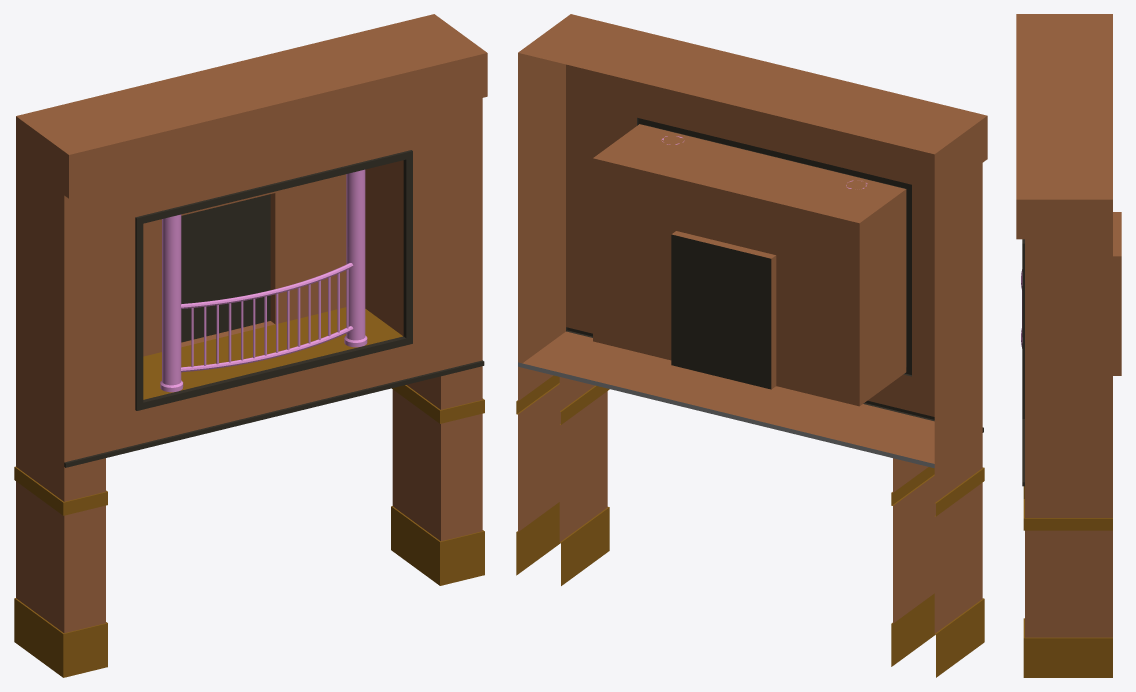
The model's file is Nomura.FBX.
3 views of the same model, side by side, from view 1: azimuth 30°, elevation 25°; view 2: azimuth 150°, elevation 25°; view 3: azimuth 270°, elevation 25° (orthographic). The views are drawn at different scales.
Parts seen in each view (by area): view 1: Nomura; view 2: Nomura; view 3: Nomura.
Boxes of the visible parts, x1,y1,x2,y2 form: Nomura: [14, 14, 487, 677]; Nomura: [516, 14, 987, 677]; Nomura: [1016, 14, 1121, 677].
Size of the model in its own units: 503 by 600 by 120.
